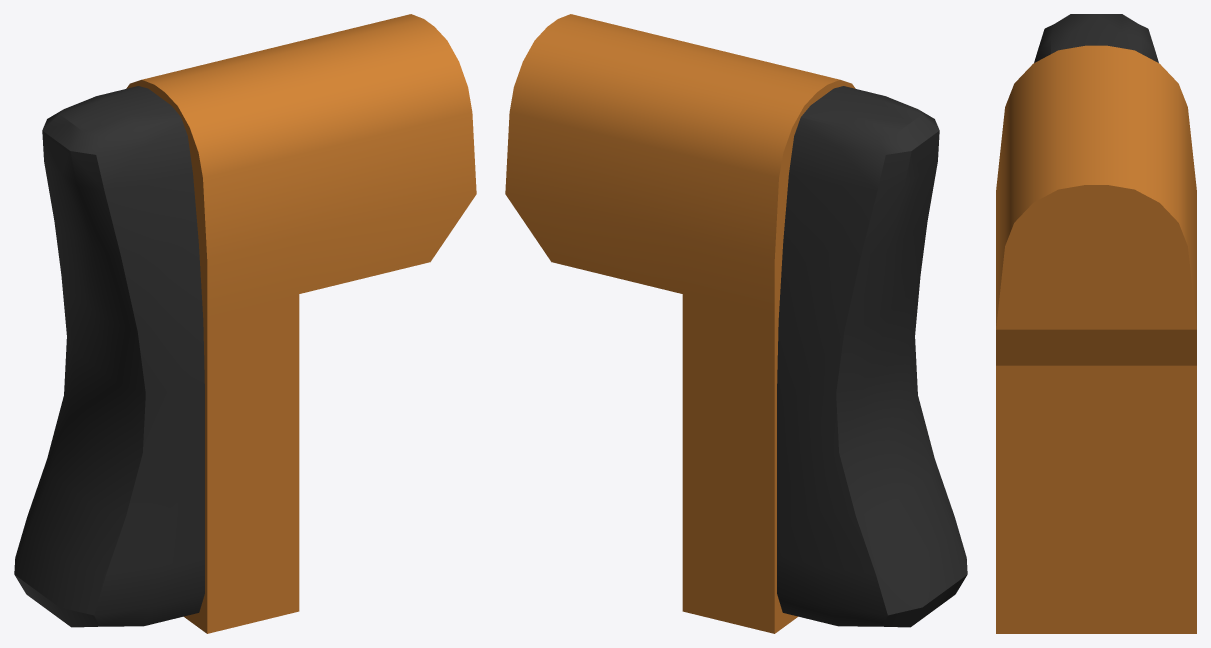
The model's file is Stock_AR_6.gltf.
The picture shows the model from 3 angles, left to right: view 1: azimuth 30°, elevation 25°; view 2: azimuth 150°, elevation 25°; view 3: azimuth 270°, elevation 25°; orthographic projection. The views are drawn at different scales.
Parts seen in each view (by area): view 1: Stock_AR_6; view 2: Stock_AR_6; view 3: Stock_AR_6.
Boxes of the visible parts, left/top/right/bottom form: Stock_AR_6: left=14, top=14, right=476, bottom=633; Stock_AR_6: left=505, top=14, right=967, bottom=633; Stock_AR_6: left=996, top=14, right=1196, bottom=633.
Bounding box in the file's own units: 0.3479 × 0.4327 × 0.1456.
